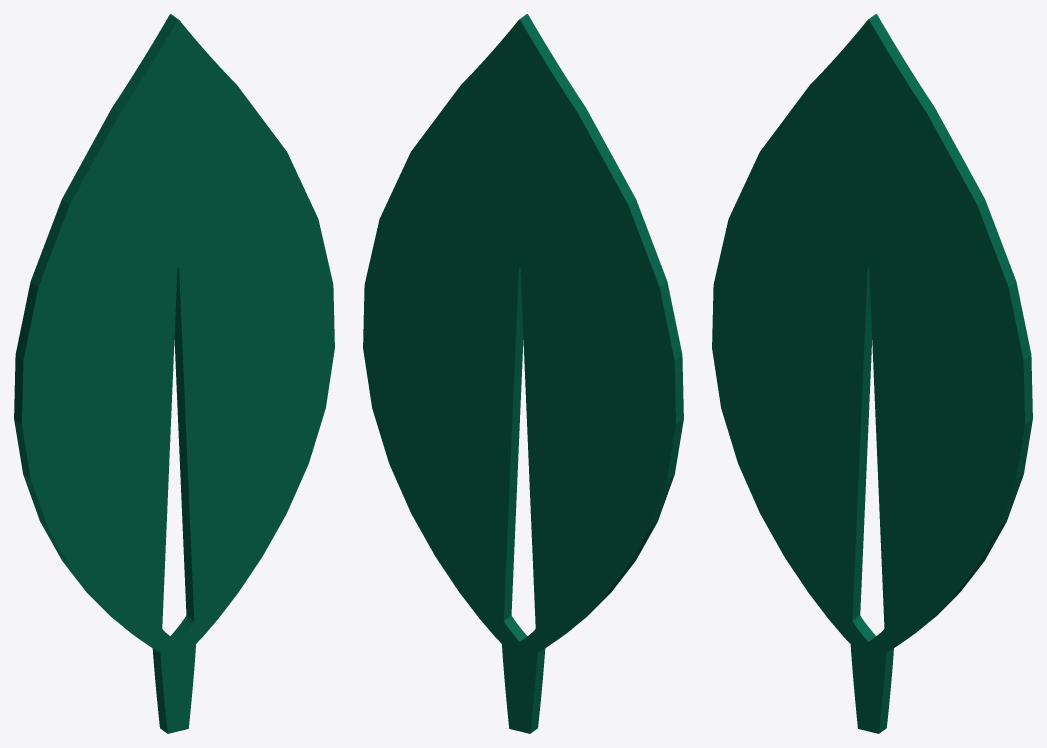
The model's file is mongodb-icon.glb.
3 views of the same model, side by side, from view 1: azimuth 30°, elevation 25°; view 2: azimuth 150°, elevation 25°; view 3: azimuth 330°, elevation 25° (orthographic).
Size of the model in its own units: 230 by 500 by 10.
